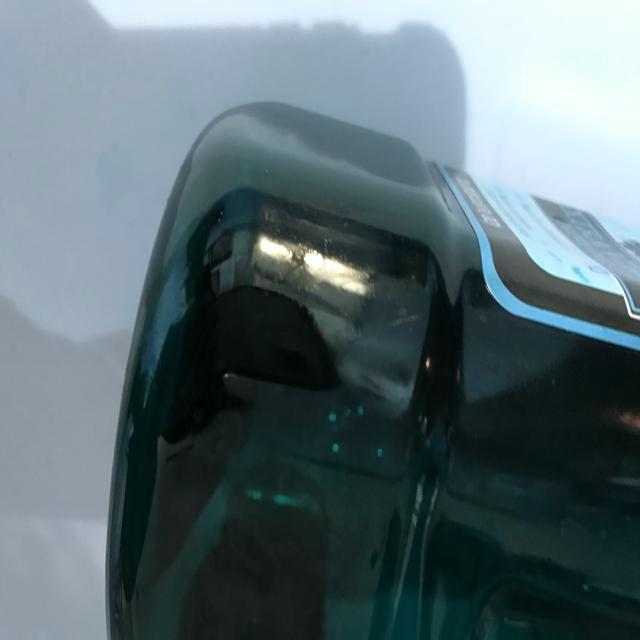plastic: (90, 79, 640, 640)
